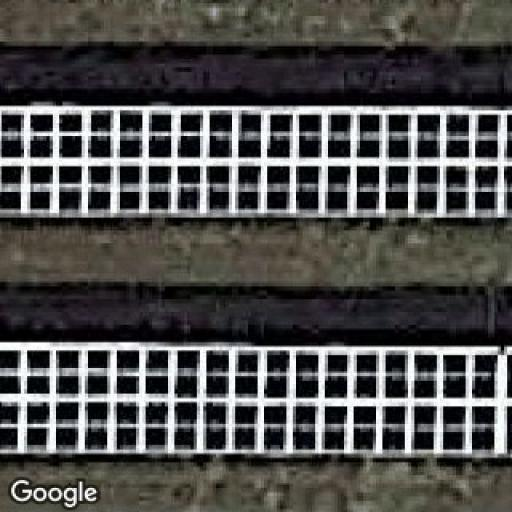solar-panel: (0, 102, 512, 221), (0, 341, 512, 454)
